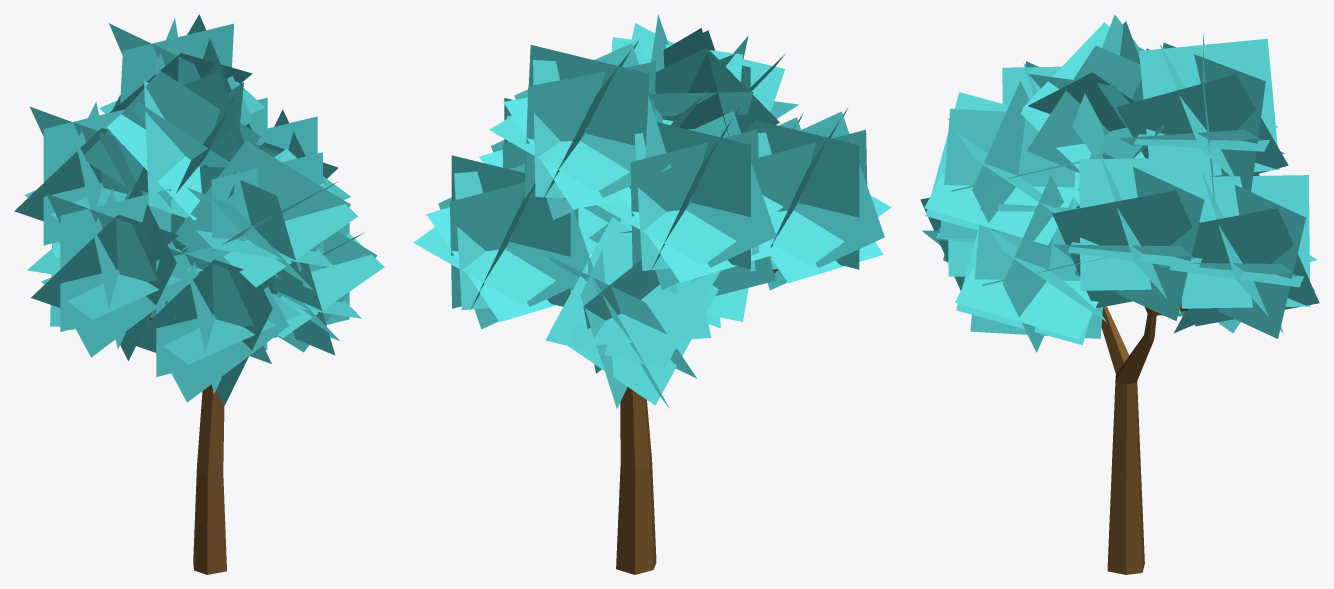
The model's file is treeA.glb.
3 views of the same model, side by side, from view 1: azimuth 30°, elevation 25°; view 2: azimuth 150°, elevation 25°; view 3: azimuth 270°, elevation 25° (orthographic). The views are drawn at different scales.
Parts seen in each view (by area): view 1: Plane.002, Plane.004, Plane.009, Plane.003, Plane.008, Plane.007, Plane.010, Cube, Plane.001, Plane.005; view 2: Plane.008, Plane.007, Plane, Plane.005, Plane.002, Plane.003, Cube, Plane.006, Plane.004, Plane.001; view 3: Plane.001, Plane.007, Plane, Plane.004, Plane.010, Plane.003, Cube, Plane.009, Plane.002.
Part boxes in pixels (left/top/right/bottom): Plane.002: left=31, top=182, right=202, bottom=360; Plane.004: left=175, top=140, right=358, bottom=304; Plane.009: left=127, top=238, right=300, bottom=405; Plane.003: left=84, top=71, right=261, bottom=233; Plane.008: left=14, top=95, right=148, bottom=245; Plane.007: left=99, top=14, right=264, bottom=125; Plane.010: left=262, top=203, right=384, bottom=355; Cube: left=148, top=317, right=226, bottom=574; Plane.001: left=252, top=109, right=350, bottom=199; Plane.005: left=27, top=242, right=75, bottom=330; Plane.008: left=597, top=106, right=782, bottom=289; Plane.007: left=489, top=40, right=670, bottom=219; Plane: left=413, top=155, right=597, bottom=329; Plane.005: left=545, top=217, right=720, bottom=408; Plane.002: left=746, top=108, right=891, bottom=290; Plane.003: left=611, top=14, right=779, bottom=136; Cube: left=616, top=269, right=777, bottom=574; Plane.006: left=620, top=219, right=775, bottom=328; Plane.004: left=671, top=30, right=798, bottom=118; Plane.001: left=479, top=98, right=620, bottom=242; Plane.001: left=1052, top=153, right=1207, bottom=321; Plane.007: left=1116, top=33, right=1288, bottom=201; Plane: left=1157, top=173, right=1319, bottom=338; Plane.004: left=924, top=81, right=1079, bottom=245; Plane.010: left=955, top=175, right=1106, bottom=352; Plane.003: left=1021, top=14, right=1164, bottom=172; Cube: left=1101, top=305, right=1188, bottom=574; Plane.009: left=920, top=197, right=1075, bottom=290; Plane.002: left=1002, top=61, right=1061, bottom=105.
Size of the model in its own units: 3.04 by 4.41 by 3.04.
